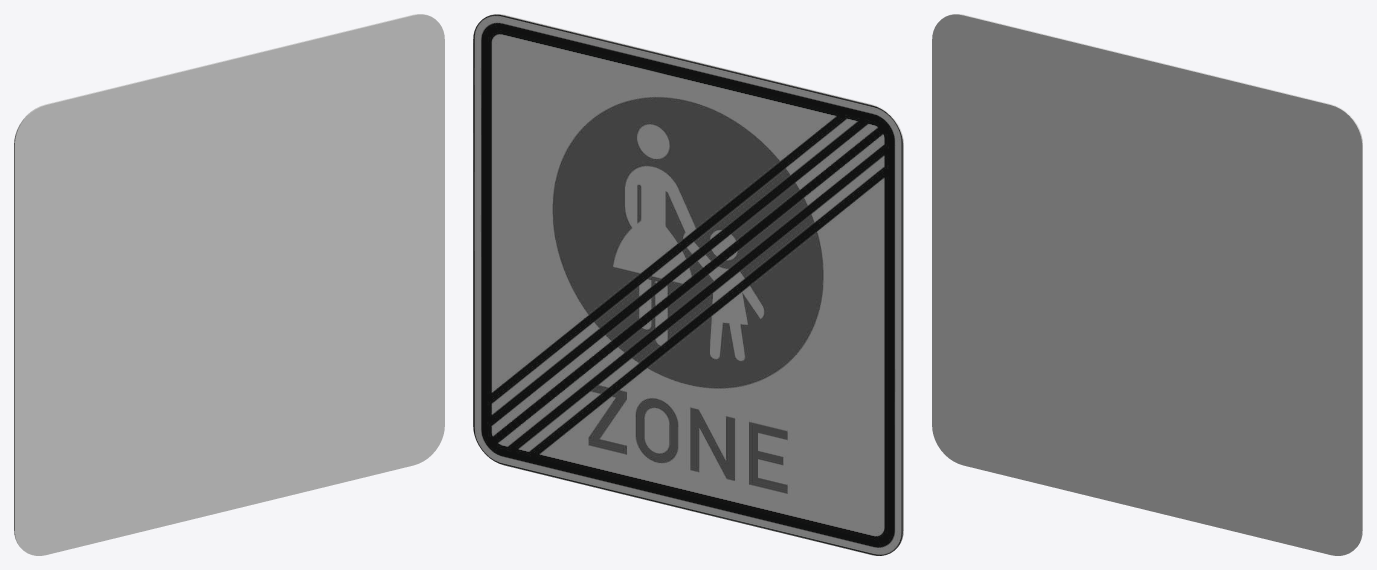
3 renders of one model, left to right at view 1: azimuth 30°, elevation 25°; view 2: azimuth 150°, elevation 25°; view 3: azimuth 330°, elevation 25°, orthographic.
Parts seen in each view (by area): view 1: Plane; view 2: Plane; view 3: Plane.
Part boxes in pixels (x1,y1,x2,y2): Plane: (14, 14, 444, 555); Plane: (473, 14, 903, 555); Plane: (932, 14, 1362, 555).
Bounding box in the file's own units: 0.6 × 0.6 × 0.002.
Materials: 2 (1 with a texture image).
